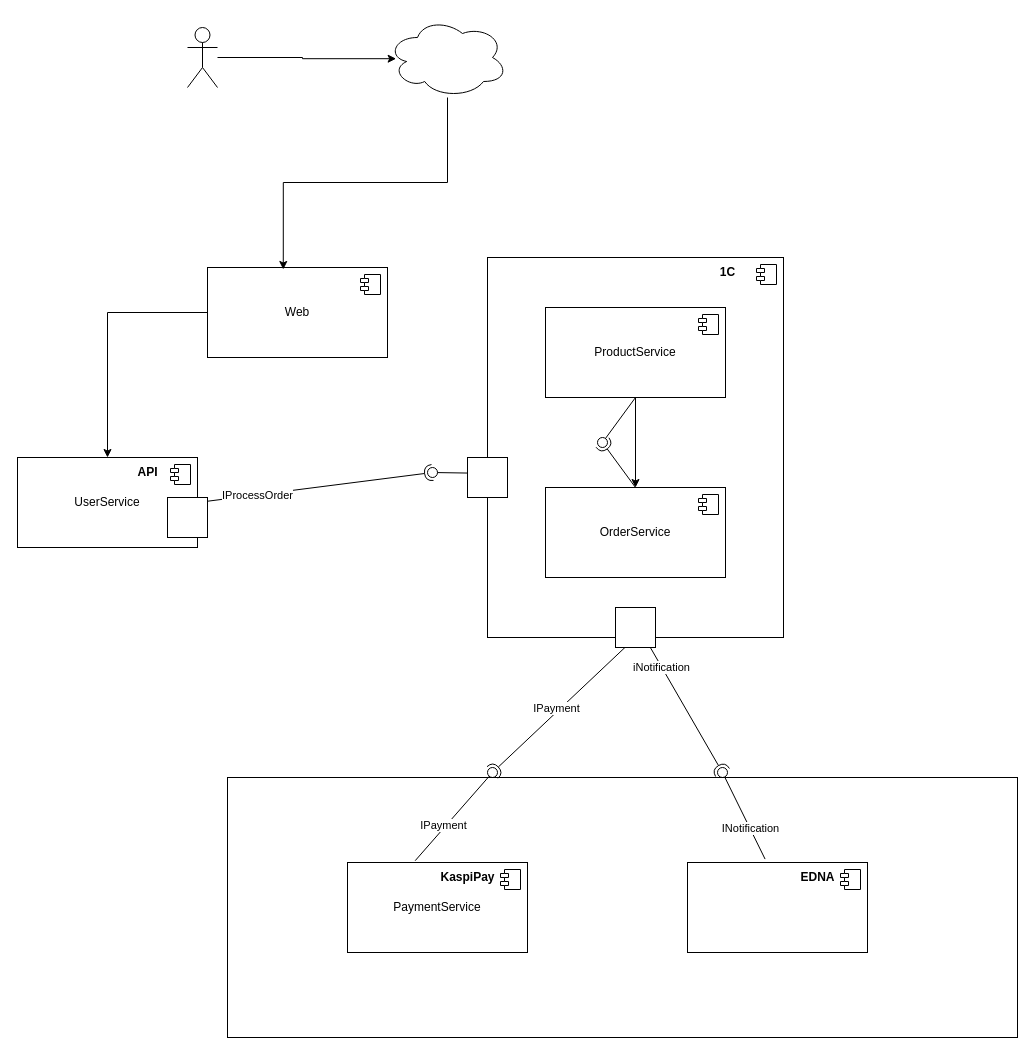
Some shapes in this 1035 by 1055 pixel diagram are drawn without their labels. Here are the shapes that lost their labels. From the top down, the box of each, then its label:
(186, 26, 218, 88): Actor
(686, 862, 868, 952): NotificationService
